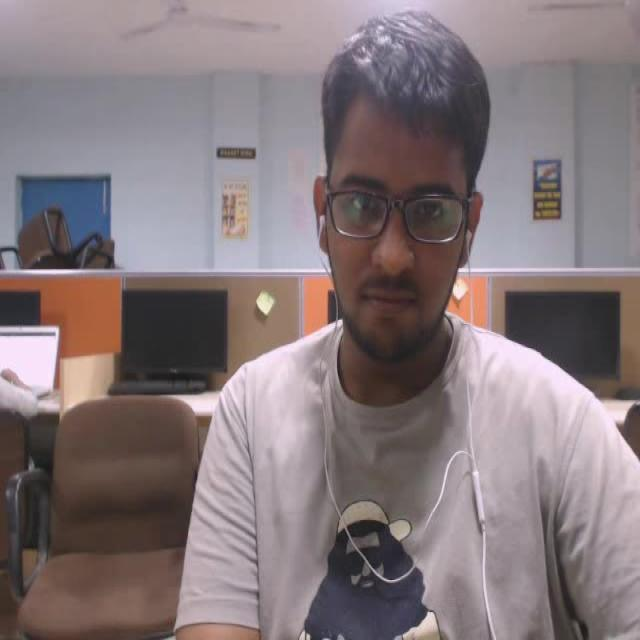Engaged: (309, 17, 507, 403)
